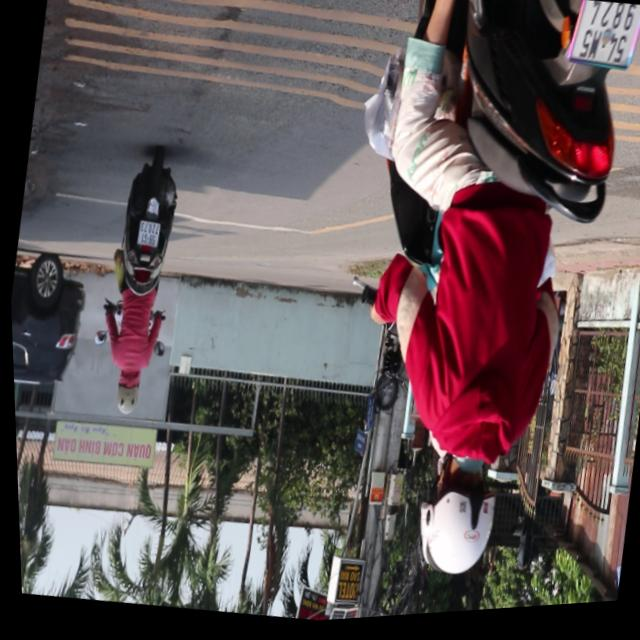helmet: (410, 452, 504, 588), (109, 371, 141, 418)
licenseplate: (282, 0, 640, 611), (81, 145, 194, 424)
nohelmet: (565, 2, 640, 83), (133, 220, 159, 250)
